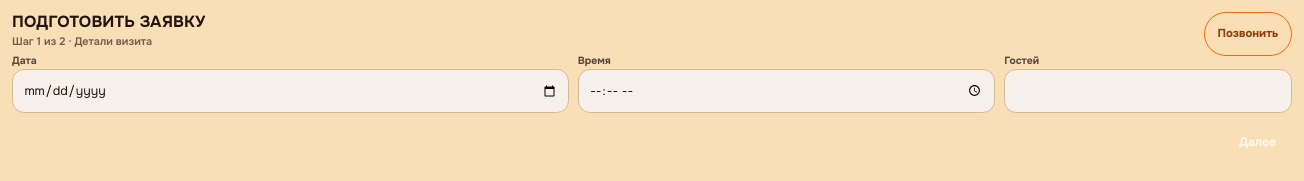
Test case: BookingHelper › rejects a past date and guest counts below one
Type "2000-01-01" into the date field labelled "Дата" at (290, 91), box x1=12 y1=69 x2=569 y2=113
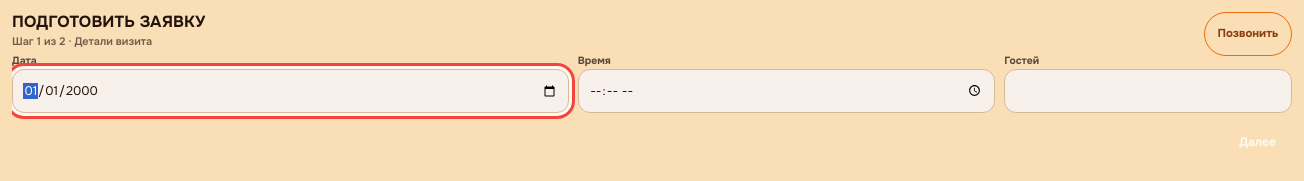
Type "12:00" into the time field labelled "Время" at (787, 91), box x1=578 y1=69 x2=995 y2=113
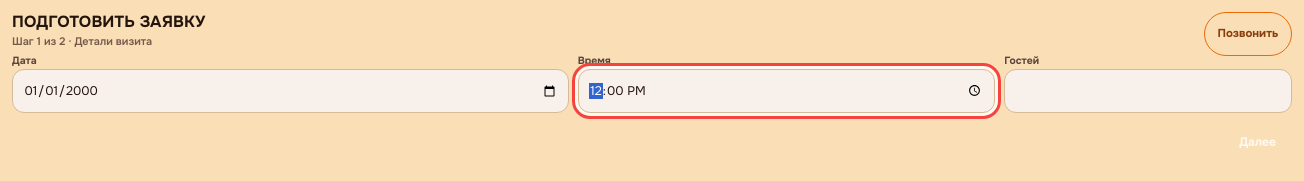
Type "0" into the number field labelled "Гостей" at (1148, 91), box x1=1004 y1=69 x2=1292 y2=113
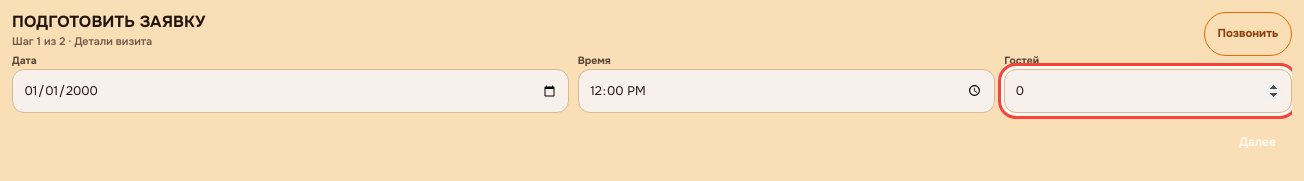
Click the button "Далее" at (1258, 142), box x1=1223 y1=120 x2=1292 y2=164
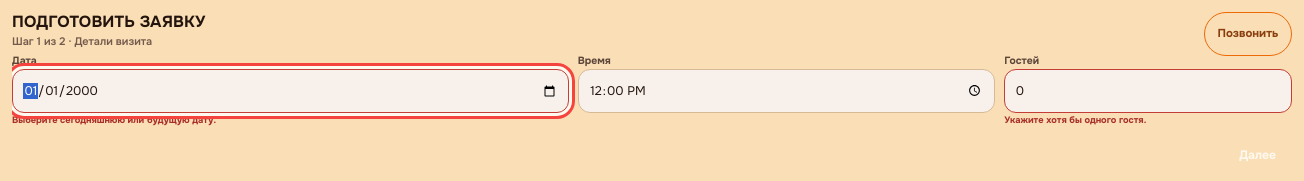
Now the text "Выберите сегодняшнюю или будущую дату." is shown, box x1=12 y1=114 x2=216 y2=126
Now the text "Укажите хотя бы одного гостя." is shown, box x1=1004 y1=114 x2=1146 y2=126
